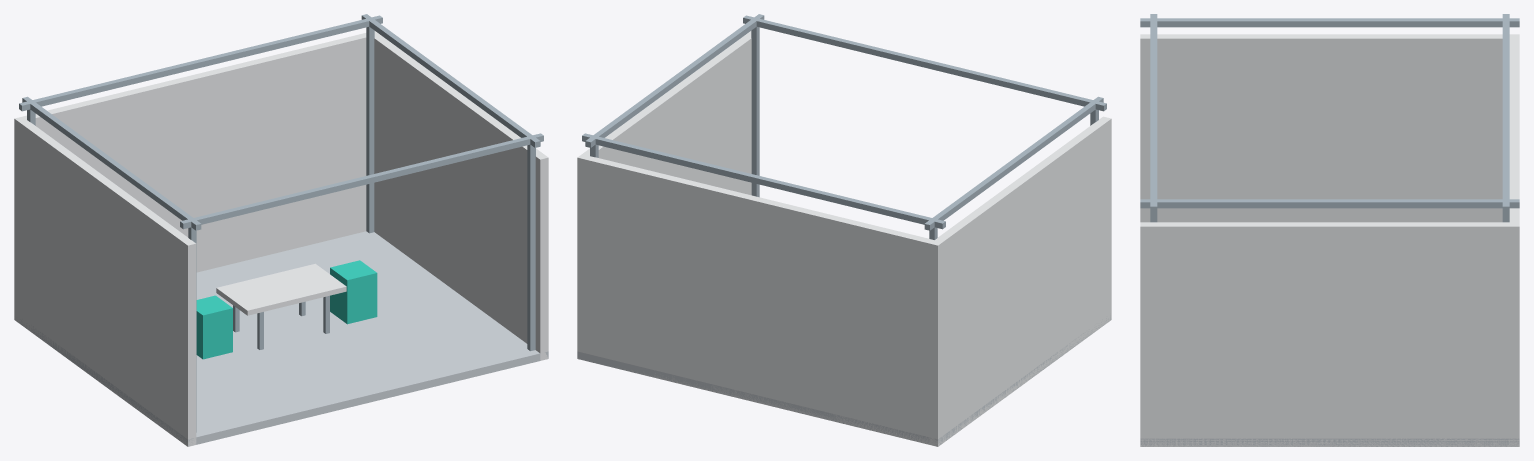
3 renders of one model, left to right at view 1: azimuth 30°, elevation 25°; view 2: azimuth 150°, elevation 25°; view 3: azimuth 270°, elevation 25°, orthographic. The views are drawn at different scales.
Visible parts, largest first — view 1: Exhibition Booth Concept; view 2: Exhibition Booth Concept; view 3: Exhibition Booth Concept.
Part boxes in pixels (x1,y1,x2,y2): Exhibition Booth Concept: (14, 14, 548, 446); Exhibition Booth Concept: (577, 14, 1111, 446); Exhibition Booth Concept: (1140, 14, 1519, 446).
Bounding box in the file's own units: 6 × 3.49 × 5.
